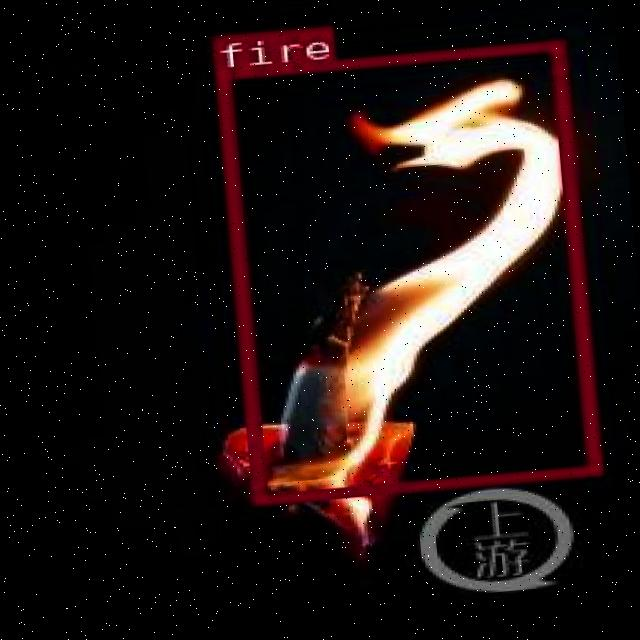fire: (212, 38, 600, 504)
